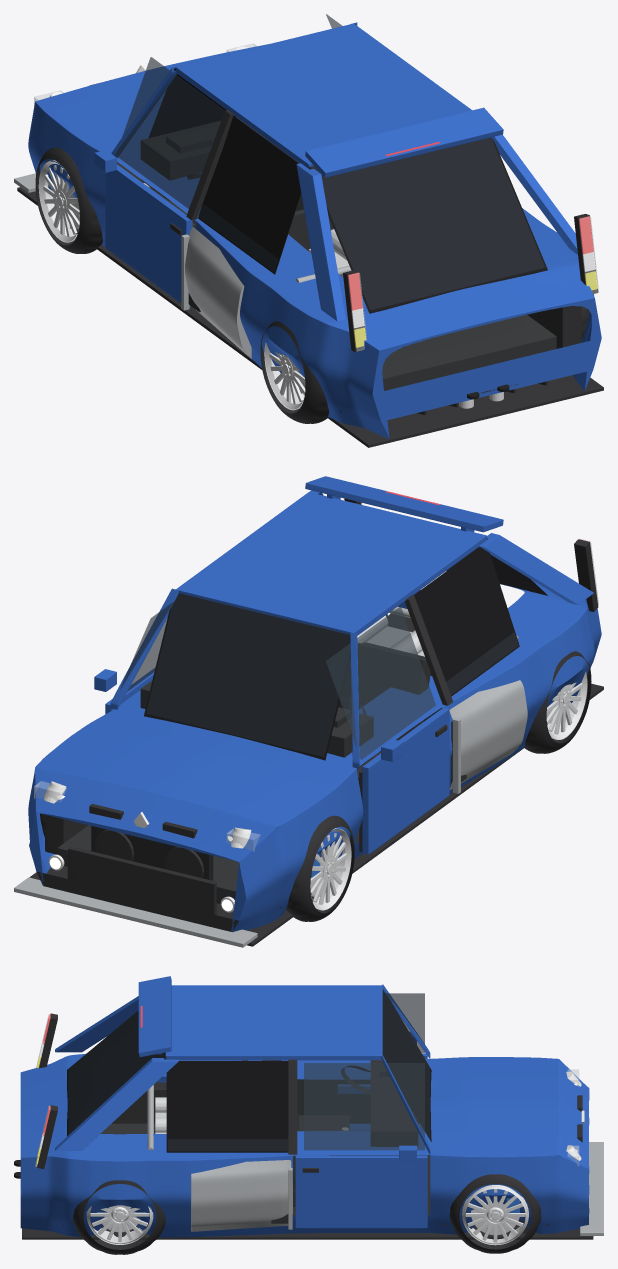
The model's file is vehicle.glb.
3 renders of one model, top to bottom at view 1: azimuth 30°, elevation 25°; view 2: azimuth 150°, elevation 25°; view 3: azimuth 270°, elevation 25°, orthographic. The views are drawn at different scales.
Parts seen in each view (by area): view 1: BODY_ClioV6_Unibody, GLASS_ClioV6_Greenhouse, DOOR_FL_ClioV6_WindowGlass, DOOR_FL_ClioV6, CHASSIS_ClioV6_SubframeAndSuspension, AERO_ClioV6_RoofSpoiler, AERO_ClioV6_SideAirScoops, WHEEL_FL_OZSuperturismo, INTERIOR_ClioV6_CockpitAndSeats, WHEEL_RL_OZSuperturismo, LIGHTING_ClioV6_OpticsAndJewelry; view 2: BODY_ClioV6_Unibody, GLASS_ClioV6_Greenhouse, DOOR_FL_ClioV6_WindowGlass, LIGHTING_ClioV6_OpticsAndJewelry, DOOR_FL_ClioV6, AERO_ClioV6_SideAirScoops, INTERIOR_ClioV6_CockpitAndSeats, POWERTRAIN_ClioV6_MidMountedV6, WHEEL_FL_OZSuperturismo, AERO_ClioV6_RoofSpoiler, WHEEL_RL_OZSuperturismo, CHASSIS_ClioV6_SubframeAndSuspension (+2 smaller); view 3: BODY_ClioV6_Unibody, GLASS_ClioV6_Greenhouse, DOOR_FR_ClioV6_WindowGlass, DOOR_FR_ClioV6, AERO_ClioV6_SideAirScoops, WHEEL_FR_OZSuperturismo, INTERIOR_ClioV6_CockpitAndSeats, WHEEL_RR_OZSuperturismo, DOOR_FL_ClioV6_InnerCard, AERO_ClioV6_RoofSpoiler, LIGHTING_ClioV6_OpticsAndJewelry, DOOR_FL_ClioV6_WindowGlass (+2 smaller).
Part boxes in pixels (box(x1,y1,x2,y2)): BODY_ClioV6_Unibody: box(14, 22, 603, 447); GLASS_ClioV6_Greenhouse: box(148, 24, 547, 313); DOOR_FL_ClioV6_WindowGlass: box(116, 57, 224, 208); DOOR_FL_ClioV6: box(94, 150, 192, 306); CHASSIS_ClioV6_SubframeAndSuspension: box(117, 162, 556, 390); AERO_ClioV6_RoofSpoiler: box(305, 107, 503, 177); AERO_ClioV6_SideAirScoops: box(181, 227, 251, 358); WHEEL_FL_OZSuperturismo: box(35, 147, 102, 253); INTERIOR_ClioV6_CockpitAndSeats: box(140, 117, 333, 250); WHEEL_RL_OZSuperturismo: box(260, 321, 328, 423); LIGHTING_ClioV6_OpticsAndJewelry: box(34, 43, 598, 408); BODY_ClioV6_Unibody: box(14, 490, 603, 947); GLASS_ClioV6_Greenhouse: box(144, 538, 547, 760); DOOR_FL_ClioV6_WindowGlass: box(326, 606, 435, 759); LIGHTING_ClioV6_OpticsAndJewelry: box(34, 498, 598, 915); DOOR_FL_ClioV6: box(362, 707, 449, 854); AERO_ClioV6_SideAirScoops: box(449, 680, 527, 793); INTERIOR_ClioV6_CockpitAndSeats: box(140, 642, 442, 783); POWERTRAIN_ClioV6_MidMountedV6: box(91, 606, 518, 880); WHEEL_FL_OZSuperturismo: box(286, 815, 354, 921); AERO_ClioV6_RoofSpoiler: box(305, 476, 503, 532); WHEEL_RL_OZSuperturismo: box(524, 651, 591, 753); CHASSIS_ClioV6_SubframeAndSuspension: box(57, 825, 238, 903); BODY_ClioV6_Unibody: box(20, 984, 603, 1239); GLASS_ClioV6_Greenhouse: box(67, 989, 431, 1152); DOOR_FR_ClioV6_WindowGlass: box(304, 1063, 424, 1150); DOOR_FR_ClioV6: box(295, 1145, 427, 1228); AERO_ClioV6_SideAirScoops: box(191, 1160, 292, 1231); WHEEL_FR_OZSuperturismo: box(449, 1174, 541, 1253); INTERIOR_ClioV6_CockpitAndSeats: box(242, 1060, 417, 1206); WHEEL_RR_OZSuperturismo: box(73, 1180, 165, 1254); DOOR_FL_ClioV6_InnerCard: box(297, 1079, 419, 1123); AERO_ClioV6_RoofSpoiler: box(138, 976, 171, 1057); LIGHTING_ClioV6_OpticsAndJewelry: box(14, 1013, 584, 1178); DOOR_FL_ClioV6_WindowGlass: box(386, 993, 424, 1052).
Size of what is drawn, in the model's own units: 1.88 by 1.42 by 3.94.
